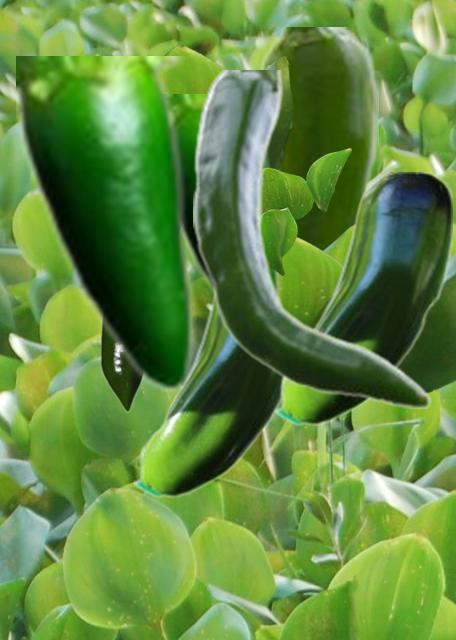green_chili: (193, 70, 431, 407), (16, 56, 195, 393), (273, 172, 451, 426), (132, 298, 279, 498), (253, 27, 377, 249), (173, 94, 280, 299), (99, 330, 141, 411)
